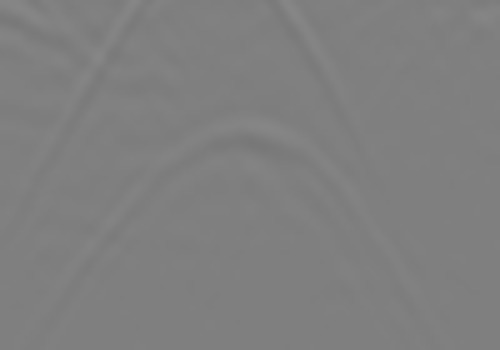hyperbola: (72, 116, 421, 297)
